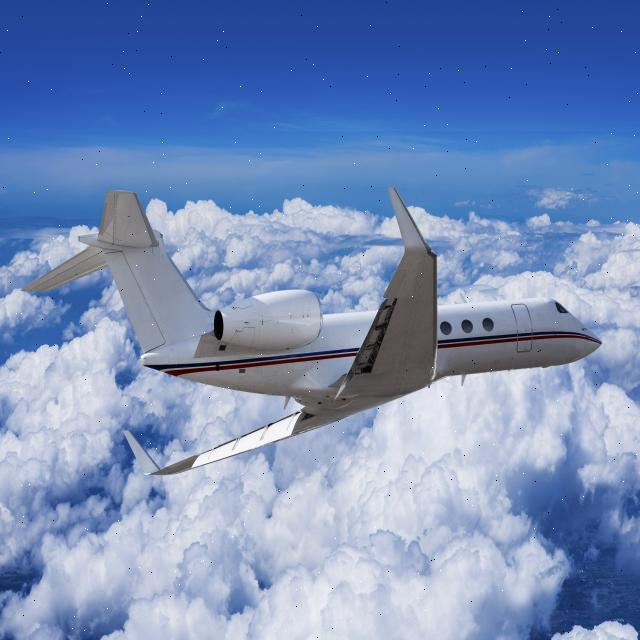jet: (4, 151, 620, 528)
